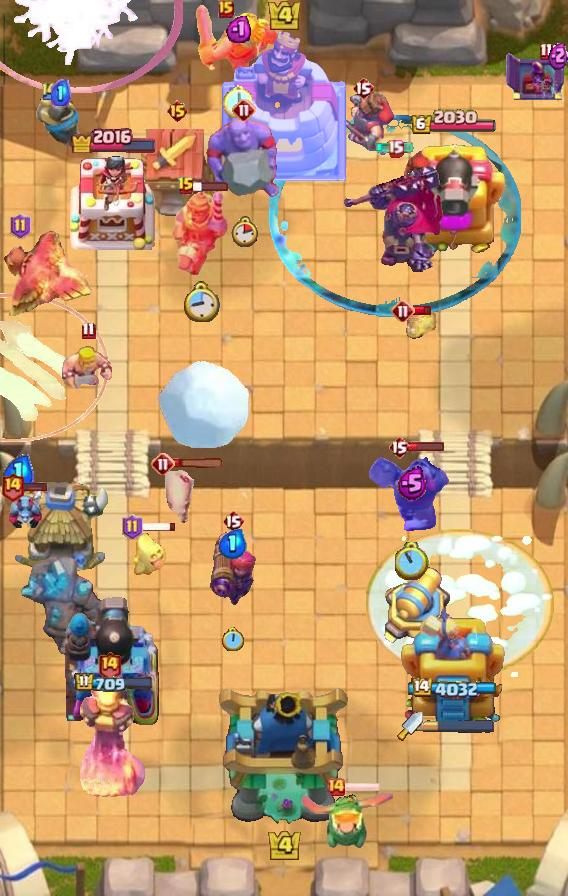archer: (59, 344, 117, 400)
archer-queen: (203, 115, 285, 203)
bar: (401, 601, 505, 731)
barbarian-evolution: (1, 0, 184, 94)
bat-evolution: (132, 532, 166, 576)
cannoneer-tower: (19, 557, 109, 659)
electro-dragon: (70, 678, 148, 804)
electro-spirit: (2, 454, 34, 492), (397, 467, 427, 502), (219, 529, 247, 559), (225, 14, 250, 42), (548, 42, 568, 70), (51, 79, 71, 106)
electro-wizard: (300, 789, 398, 851)
elixir: (184, 282, 221, 323), (395, 542, 429, 580), (223, 84, 253, 118), (230, 217, 257, 248), (223, 627, 246, 653)
elixir-golem-big: (332, 91, 394, 157)
emote: (173, 458, 225, 469), (343, 781, 381, 793), (193, 180, 229, 192), (12, 480, 48, 492), (407, 441, 445, 452), (139, 521, 177, 532), (413, 304, 432, 315)
firecracker: (36, 91, 88, 154)
giant: (160, 469, 194, 527)
goblin-hut: (195, 0, 281, 78)
ice-spirit: (375, 141, 415, 153)
ice-spirit-evolution: (403, 310, 439, 342)
ice-spirit-evolution-symbol: (504, 49, 568, 103)
ice-wizard: (0, 293, 108, 442)
inferno-tower: (342, 162, 448, 272)
king-tower: (216, 684, 352, 826), (222, 31, 346, 181)
king-tower-bar: (423, 719, 495, 733)
mega-minion: (209, 532, 257, 608)
mother-witch: (0, 229, 96, 323)
pad_0: (269, 114, 521, 318)
phoenix-big: (366, 529, 554, 677)
prince: (9, 482, 111, 578)
queen-tower: (67, 152, 161, 256)
ram-rider: (172, 187, 230, 279)
royal-delivery: (0, 484, 42, 528)
royal-guardian: (366, 451, 458, 533)
royal-recruit: (380, 561, 458, 651)
selected: (70, 125, 158, 153), (411, 109, 498, 136), (410, 678, 496, 700), (74, 672, 154, 694)
sparky: (134, 128, 220, 226)
text: (0, 471, 24, 502), (98, 651, 122, 682), (232, 98, 256, 122), (391, 299, 415, 323), (151, 452, 175, 476), (166, 99, 189, 123), (9, 213, 30, 239), (121, 514, 142, 540), (352, 76, 374, 100), (388, 435, 410, 459), (222, 509, 244, 533), (40, 79, 60, 100), (326, 777, 346, 797), (177, 176, 195, 196), (387, 139, 405, 158), (218, 0, 234, 18), (539, 43, 554, 62), (81, 321, 96, 340)
tower-bar: (65, 593, 163, 731), (399, 138, 507, 256)
wall-breaker: (157, 359, 251, 451)
